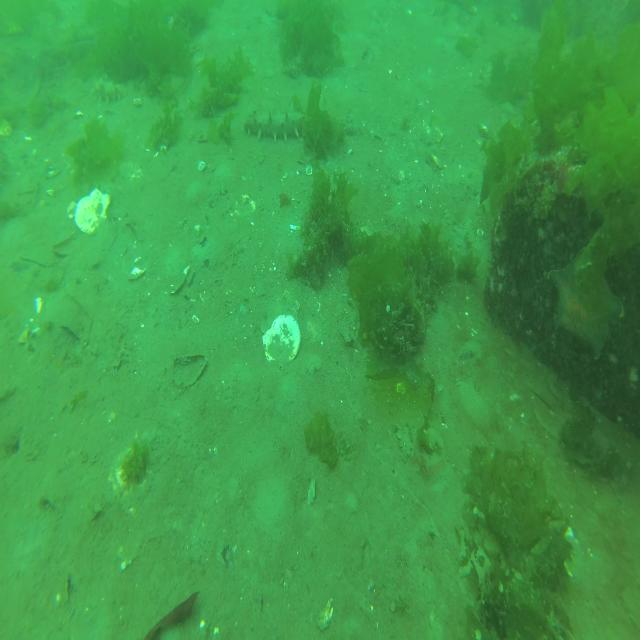holothurian: (244, 108, 304, 143), (90, 79, 128, 103), (0, 41, 22, 80)
scallop: (107, 451, 154, 507), (262, 314, 301, 364), (259, 289, 299, 336), (74, 188, 110, 236), (411, 119, 443, 145), (38, 266, 65, 291), (234, 194, 256, 221), (171, 267, 191, 295), (119, 162, 144, 179), (98, 110, 120, 124), (361, 223, 377, 234), (45, 169, 61, 179), (68, 201, 75, 221), (134, 97, 141, 107)
starfish: (548, 246, 625, 363)
